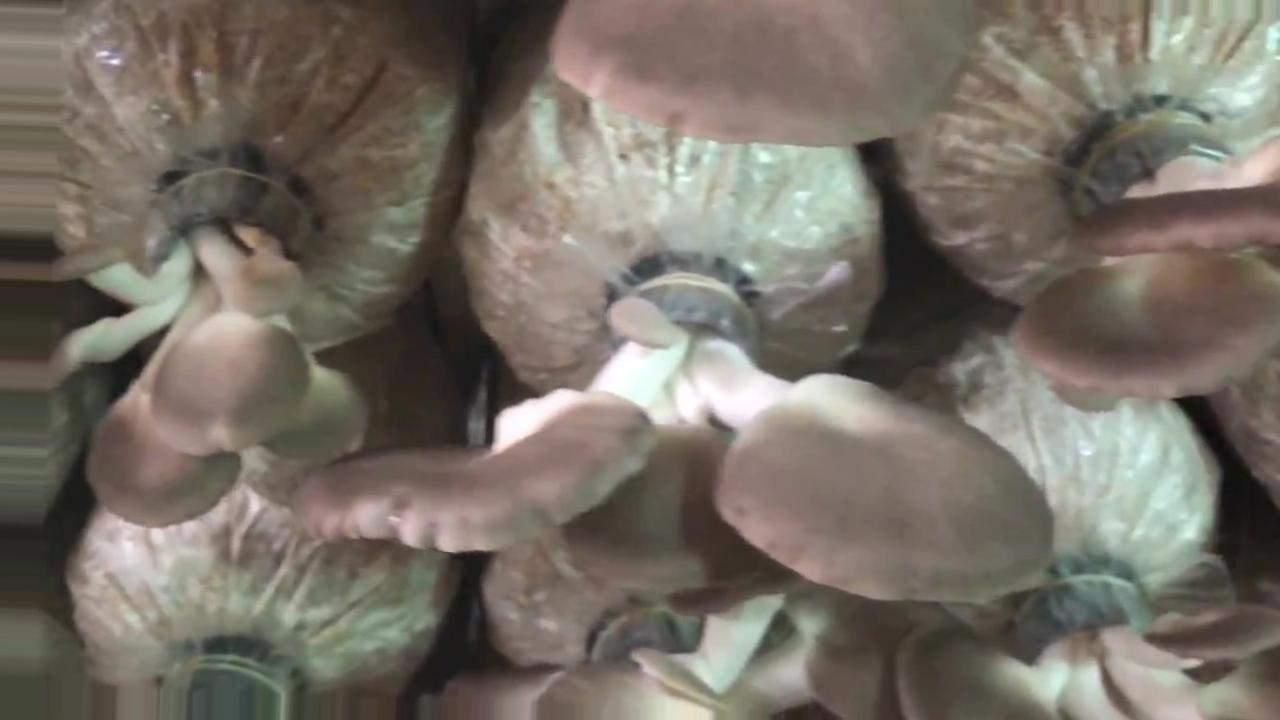nam: (291, 249, 1063, 613), (42, 132, 367, 534), (1013, 105, 1280, 398), (553, 1, 975, 152), (896, 563, 1274, 720)
